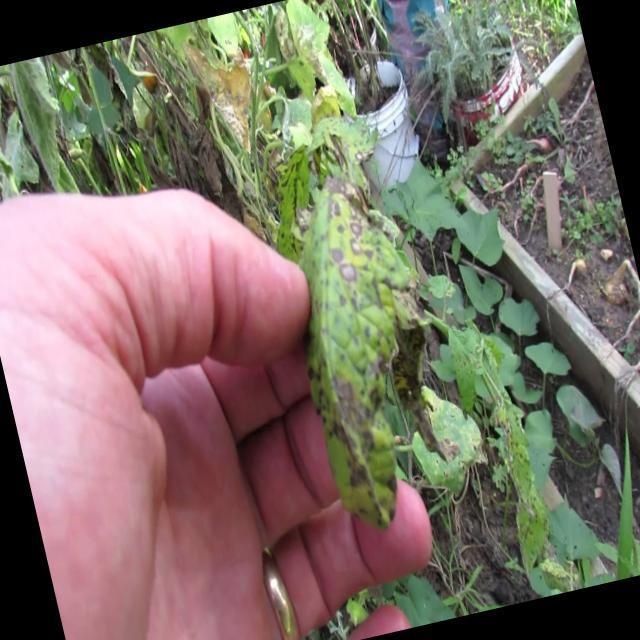Septoria: (274, 174, 441, 516)
